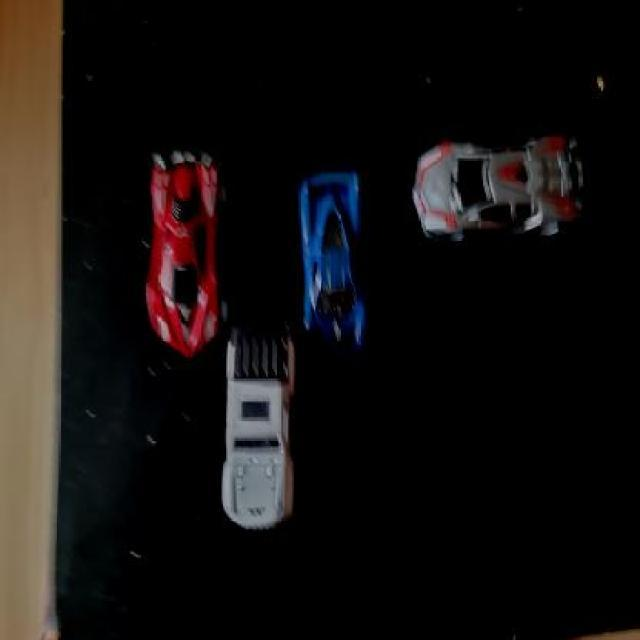car: (404, 130, 594, 244), (140, 136, 231, 364), (289, 164, 377, 378), (222, 314, 304, 543)
